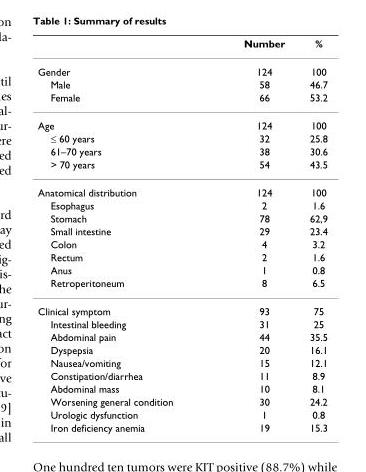table: (37, 36, 326, 433)
table column: (37, 36, 207, 433), (207, 36, 296, 433), (296, 36, 326, 433)
table column header: (37, 36, 326, 57)
table row: (37, 36, 326, 57), (37, 90, 326, 111), (37, 177, 326, 198), (37, 296, 326, 317), (37, 57, 326, 77), (37, 111, 326, 131), (37, 157, 326, 177), (37, 276, 326, 296), (37, 77, 326, 90), (37, 131, 326, 144), (37, 144, 326, 157), (37, 198, 326, 211), (37, 211, 326, 224), (37, 224, 326, 237), (37, 237, 326, 250), (37, 250, 326, 263), (37, 263, 326, 276), (37, 317, 326, 330), (37, 330, 326, 343), (37, 343, 326, 356), (37, 368, 326, 381), (37, 381, 326, 394), (37, 394, 326, 407), (37, 407, 326, 420), (37, 420, 326, 433), (37, 356, 326, 368)
